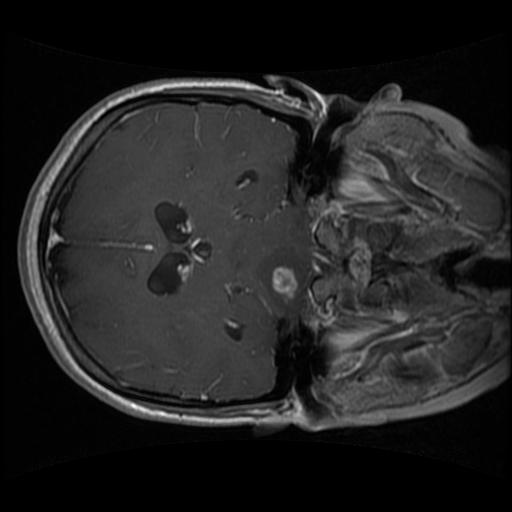glioma: (253, 245, 311, 318)
